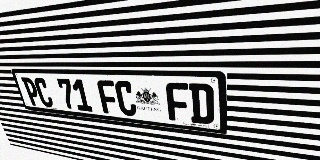1: (70, 79, 93, 112)
7: (55, 78, 78, 110)
C: (114, 80, 138, 117), (33, 78, 55, 108)
D: (189, 83, 214, 125)
F: (165, 82, 190, 122), (96, 80, 120, 115)
P: (21, 77, 42, 106)
